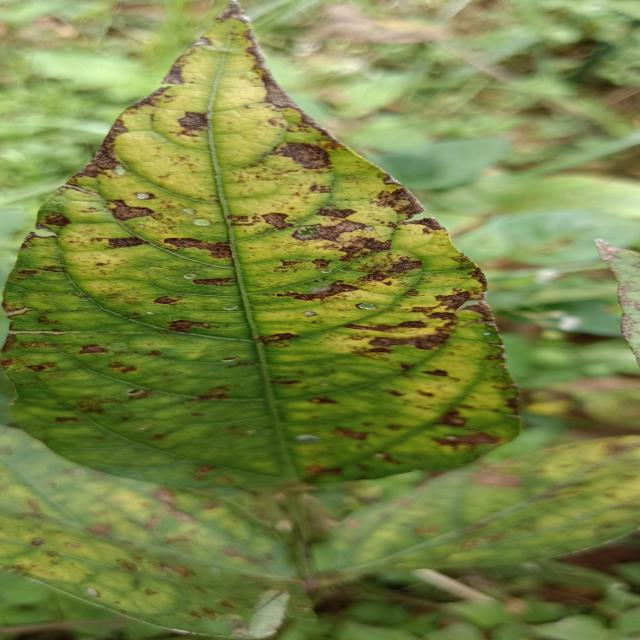Black gram_leaf spot: (0, 0, 519, 489)
